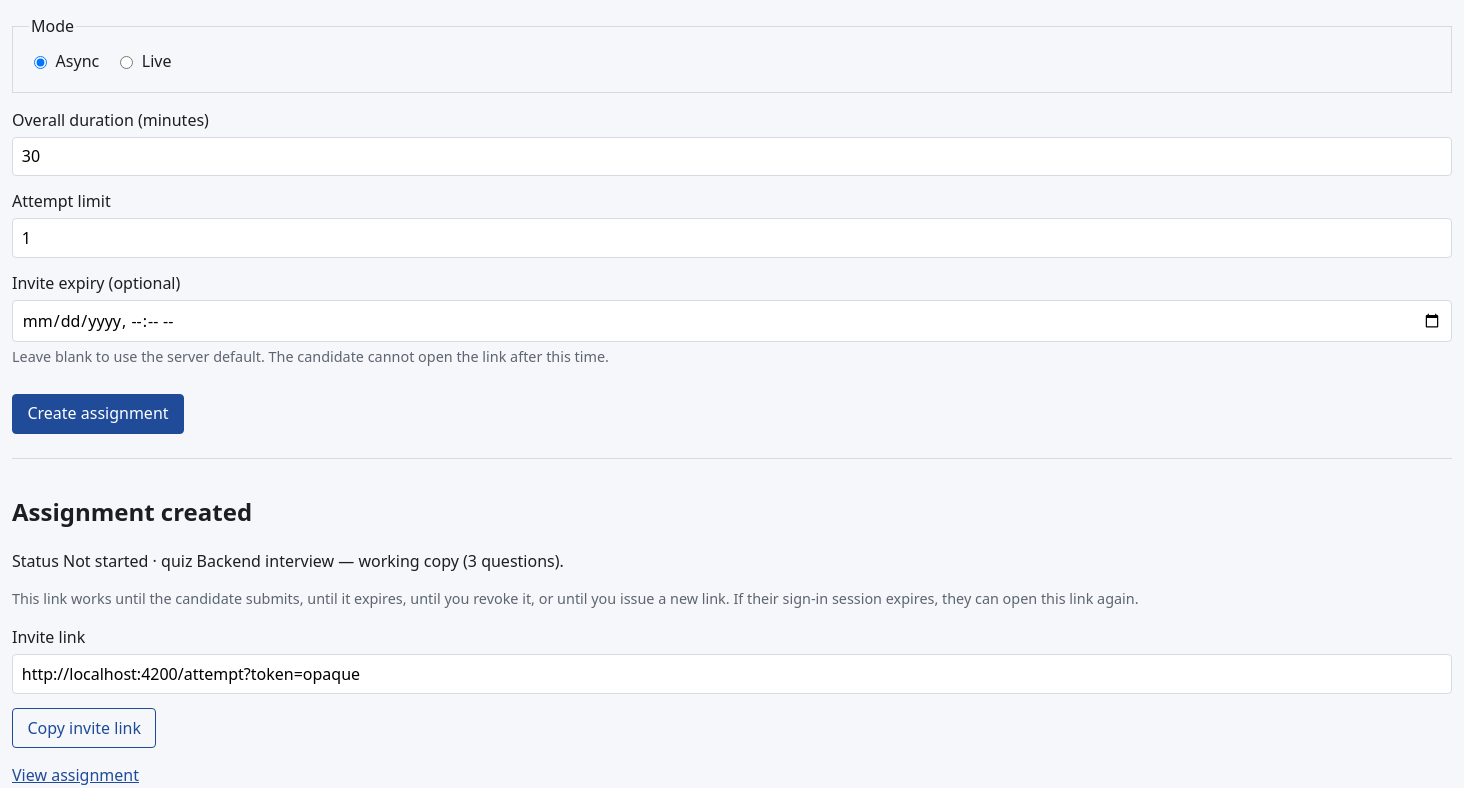
Test: AssignmentForm › shows an alert when the invite link cannot be copied
(page scrolled)
Click the button "Copy invite link" at [84, 728], box x1=12 y1=708 x2=156 y2=748
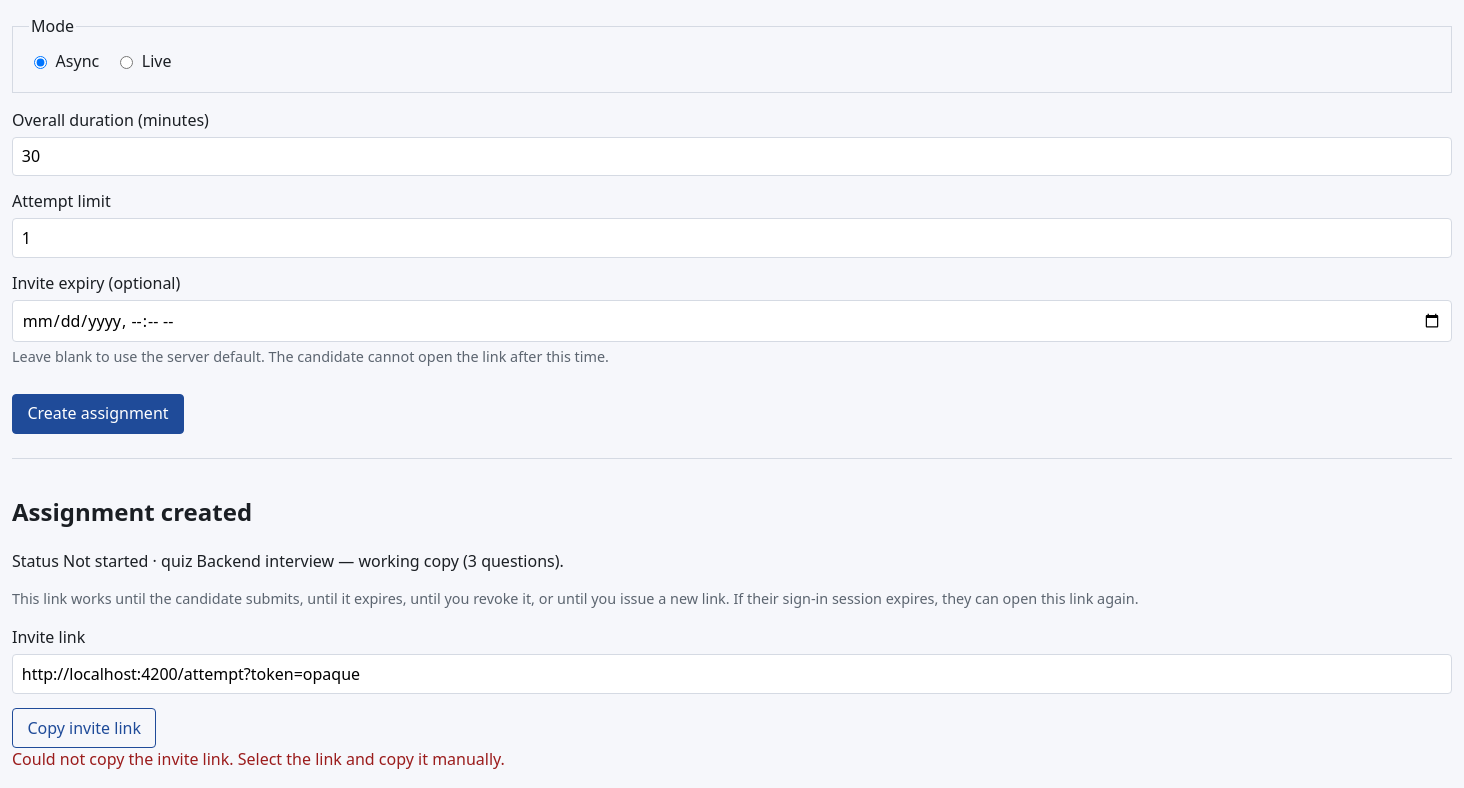
Result: the message "Could not copy the invite link. Select the link and copy it manually." is shown at x1=12 y1=748 x2=505 y2=770
